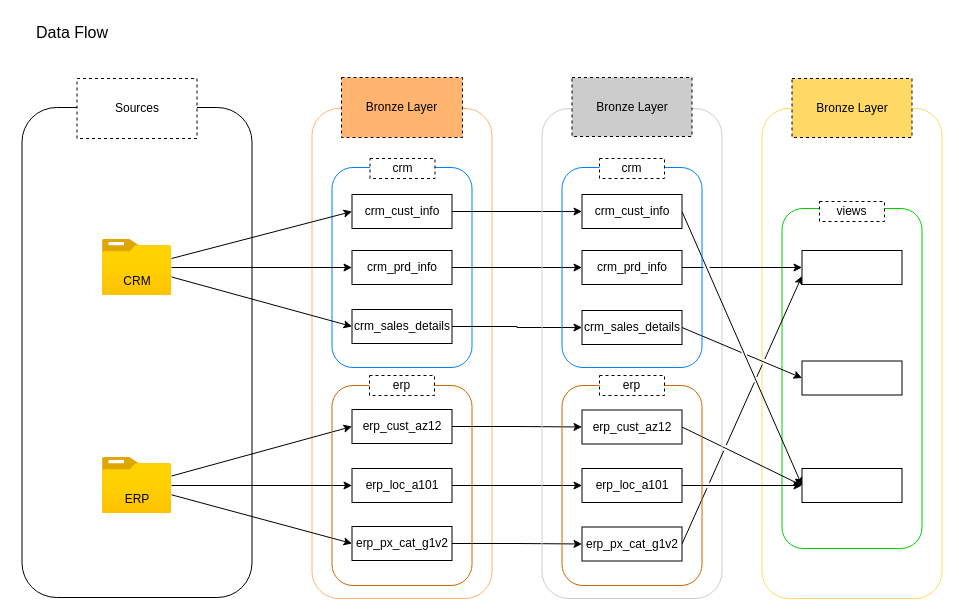
Some shapes in this 959 by 616 pixel diagram are drawn without their labels. The shapes that lost their labels are listed below. From the top down, each one's centre as x and y in pixels, then its label:
[851,267]: dim_product
[851,377]: fact_sales
[851,485]: dim_customer
